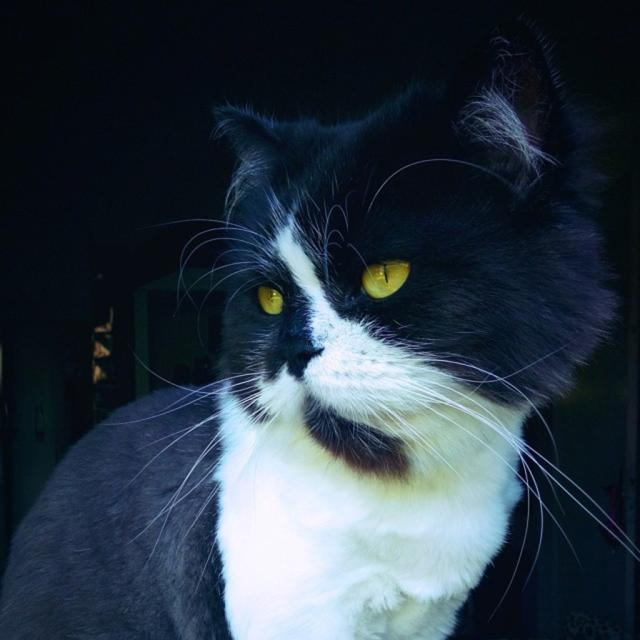Cat: (3, 24, 636, 638)
